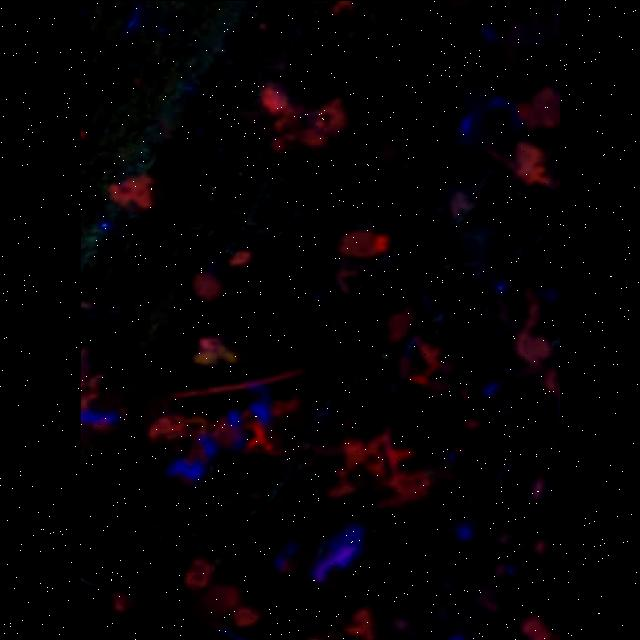Fragment: (102, 172, 158, 210)
